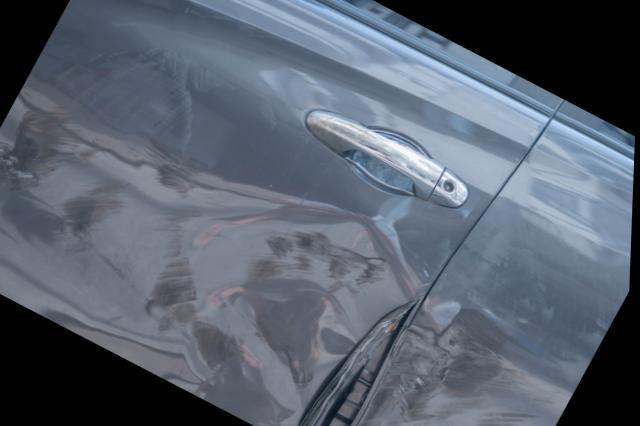dent: (0, 76, 418, 426), (358, 300, 572, 426)
